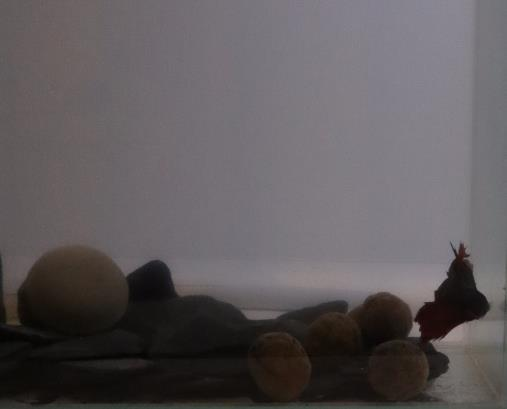fish: (415, 236, 492, 342)
